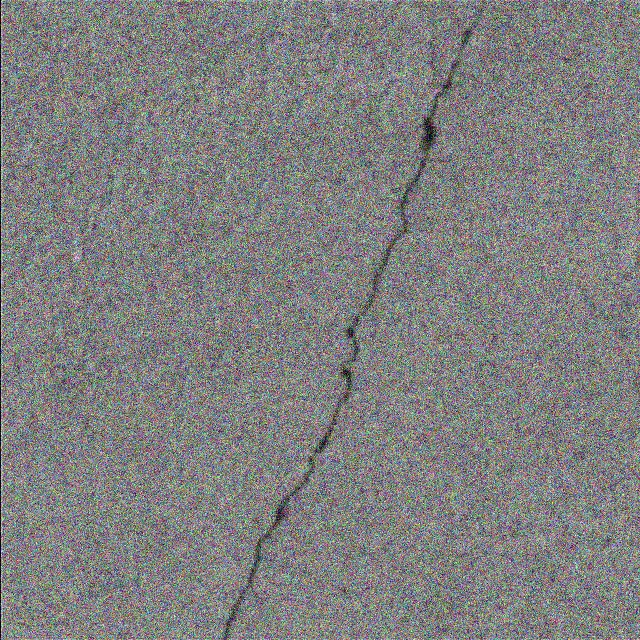SurfaceCrack: (98, 1, 573, 640)
